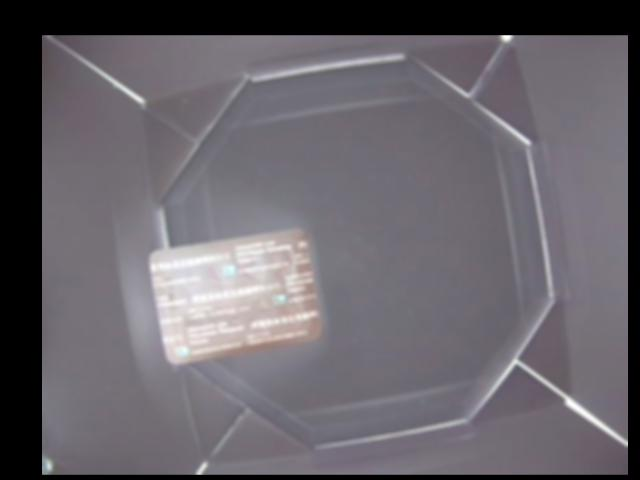Medicine: (147, 228, 322, 365)
